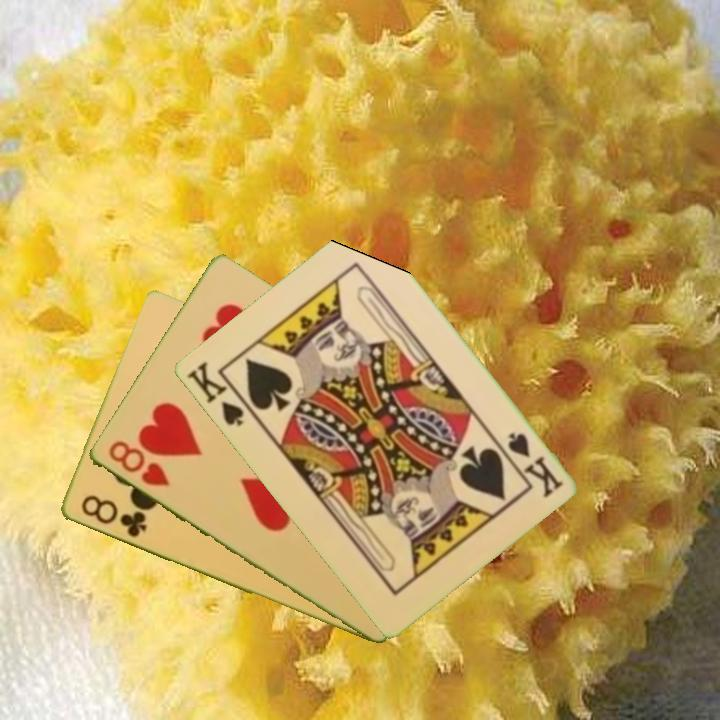8c: (76, 491, 150, 541)
8h: (104, 437, 172, 490)
Ks: (182, 357, 257, 429), (503, 428, 566, 501)
